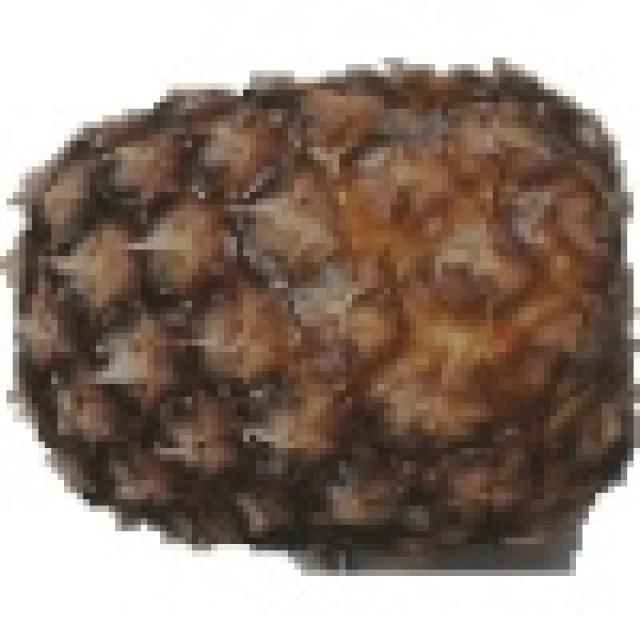pineapple: (13, 58, 614, 557)
